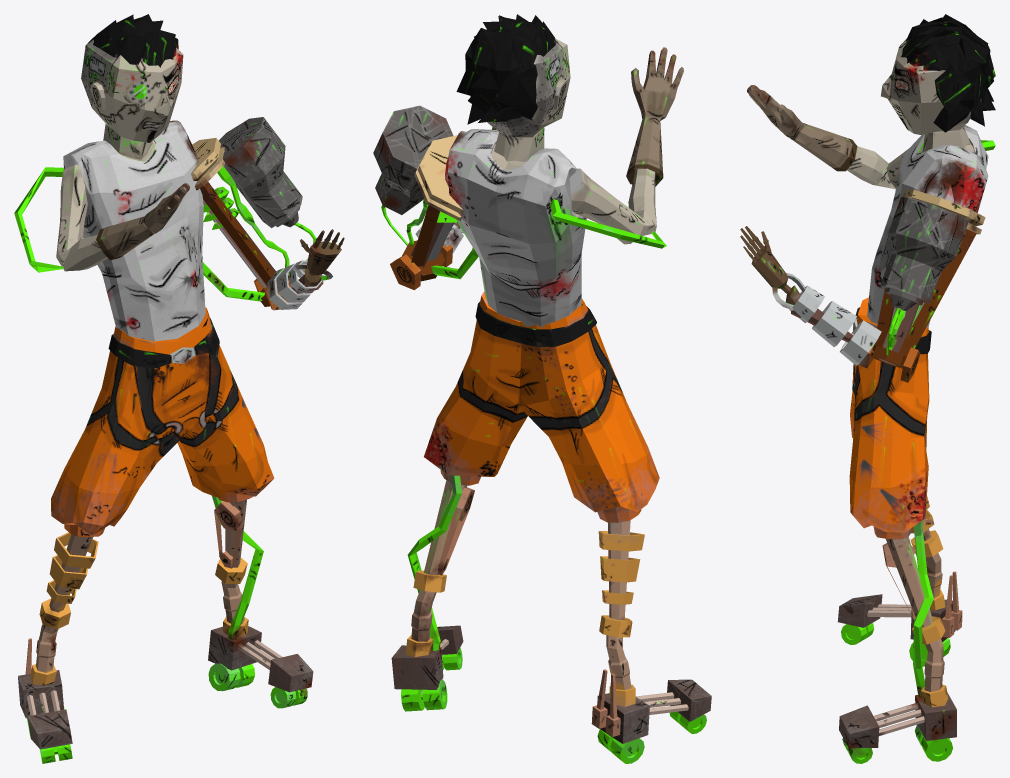
The model's file is CyborgFINALAnimation_000024.obj.
3 views of the same model, side by side, from view 1: azimuth 30°, elevation 25°; view 2: azimuth 150°, elevation 25°; view 3: azimuth 270°, elevation 25° (orthographic). The views are drawn at different scales.
Parts seen in each view (by area): view 1: CyborgMesh_Cube.002; view 2: CyborgMesh_Cube.002; view 3: CyborgMesh_Cube.002.
Boxes of the visible parts, x1,y1,x2,y2 form: CyborgMesh_Cube.002: (14, 14, 344, 763); CyborgMesh_Cube.002: (373, 14, 711, 763); CyborgMesh_Cube.002: (740, 14, 995, 763).
Bounding box in the file's own units: 4.32 × 9.58 × 3.22.
